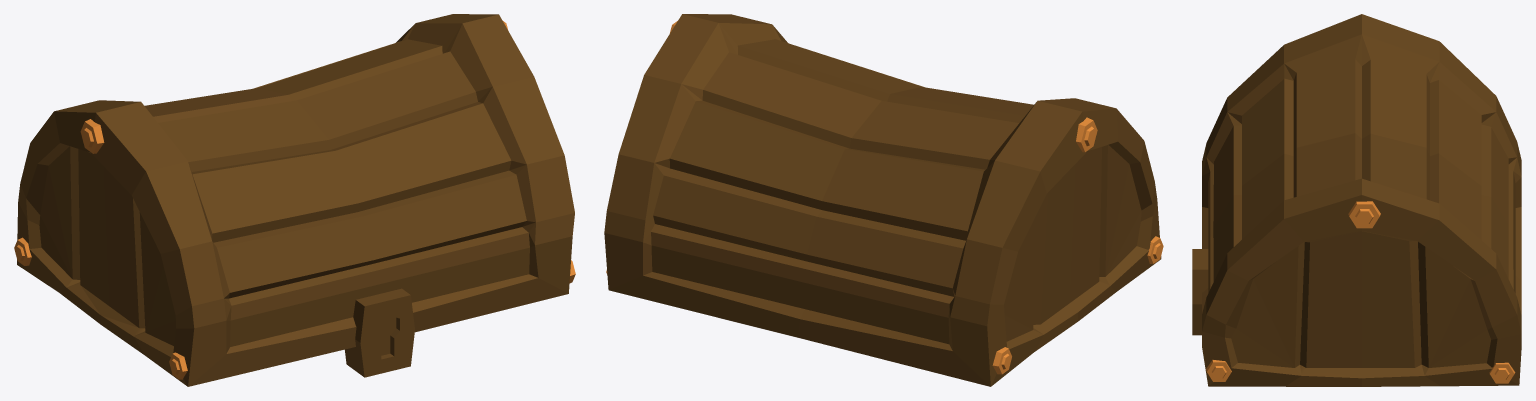
The model's file is Dev_Prop_Chest_01_Lid.fbx.
The picture shows the model from 3 angles, left to right: view 1: azimuth 30°, elevation 25°; view 2: azimuth 150°, elevation 25°; view 3: azimuth 270°, elevation 25°; orthographic projection. The views are drawn at different scales.
Visible parts, largest first — view 1: Prop_Chest_01_Lid; view 2: Prop_Chest_01_Lid; view 3: Prop_Chest_01_Lid.
Boxes of the visible parts, x1,y1,x2,y2 form: Prop_Chest_01_Lid: (14,14,575,386); Prop_Chest_01_Lid: (604,14,1163,386); Prop_Chest_01_Lid: (1192,14,1521,386).
Size of the model in its own units: 79.46 by 43.47 by 58.66.
